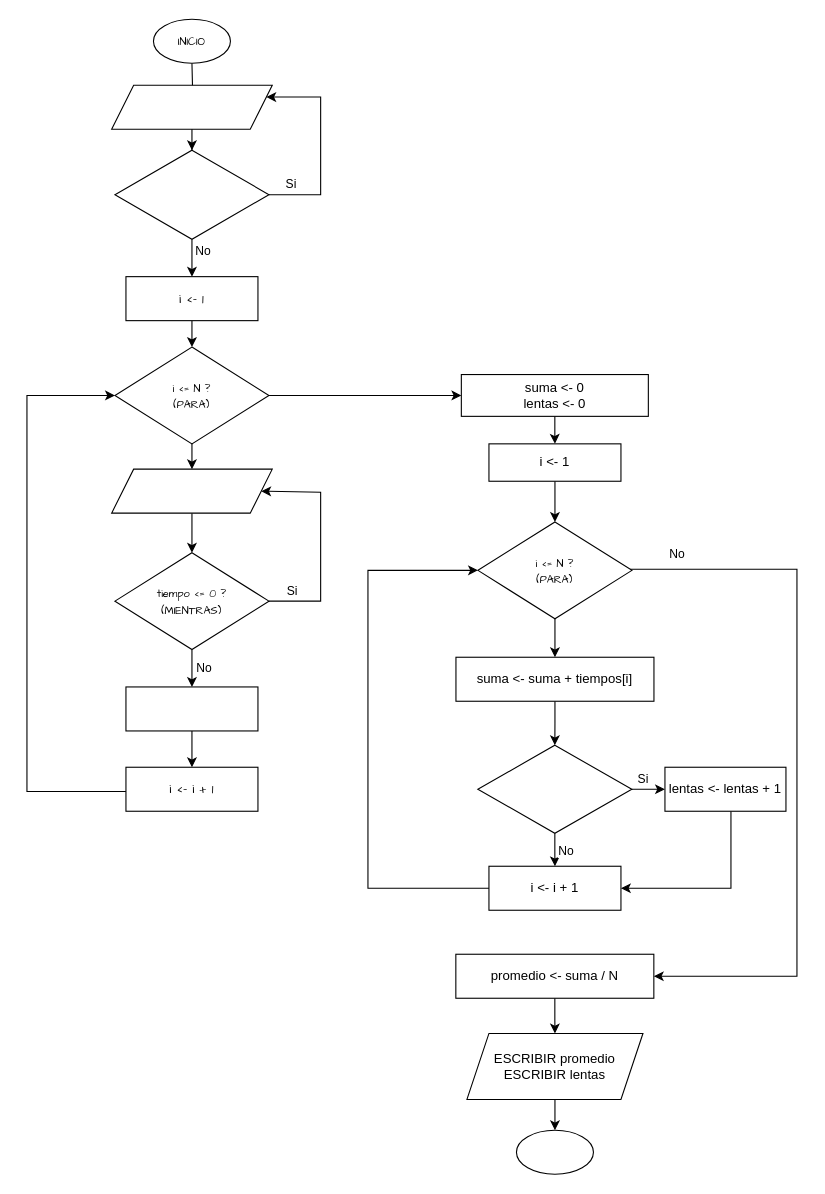
The diagram is 825 pixels wide and 1194 high, and some of its shapes have lost their labels. The box of each missing label's shape, as (x1, y1, x2, y2) in pixels:
FIN: (515, 1129, 593, 1174)
LEER N (cantidad de tiempos): (111, 84, 272, 129)
LEER tiempo (valor en ms): (111, 468, 272, 513)
N < 1 OR N > 30 ? (MIENTRAS): (114, 149, 269, 239)
tiempos[i] <- tiempo: (125, 686, 258, 731)
tiempos[i] > 200? (condición SI): (477, 744, 632, 833)
